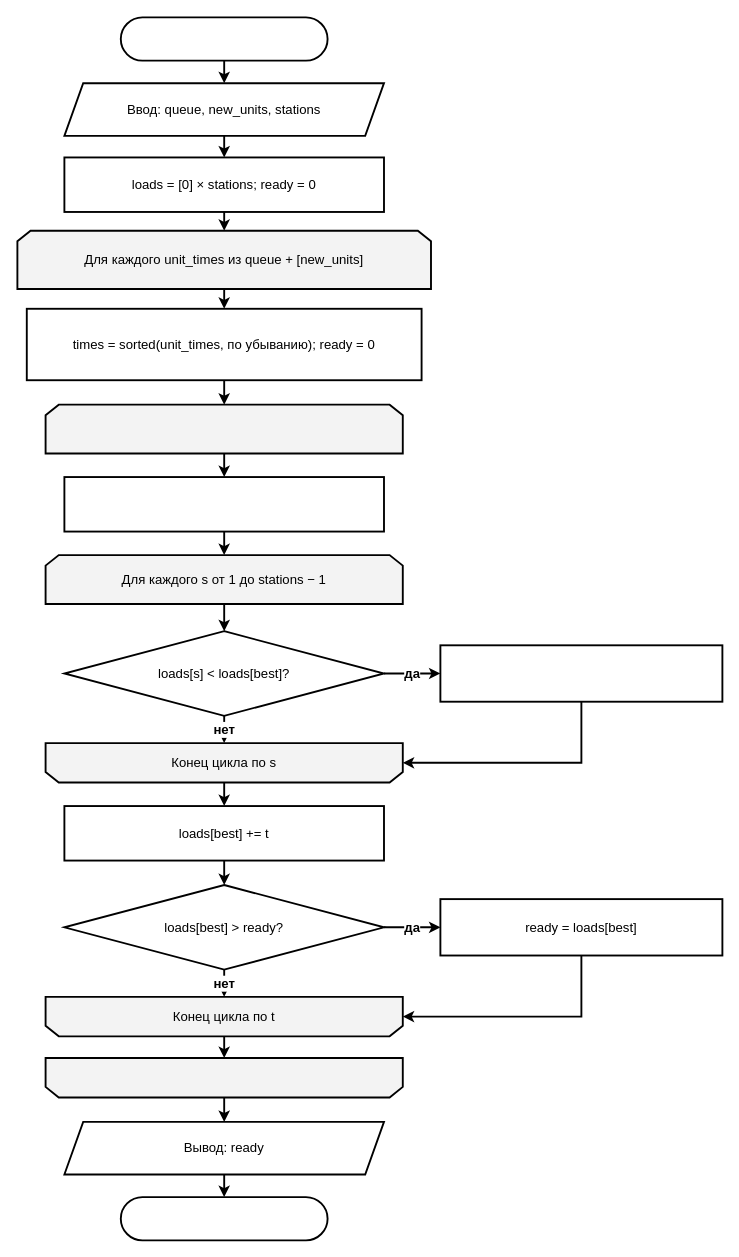
Some shapes in this 739 by 1257 pixel diagram are drawn without their labels. Each missing label, with the centre of its shape:
best = 0: pixel 223 504
best = s: pixel 581 673
Для каждого t из times: pixel 223 428
Конец: pixel 223 1218
Конец цикла по unit_times: pixel 223 1077
Начало: pixel 223 38
